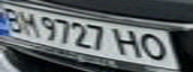2: (69, 20, 90, 50)
7: (87, 23, 112, 53), (51, 17, 72, 45)
9: (36, 13, 60, 42)
B: (0, 4, 27, 34)
H: (112, 26, 145, 59)
M: (15, 9, 42, 37)
O: (136, 32, 175, 63)
